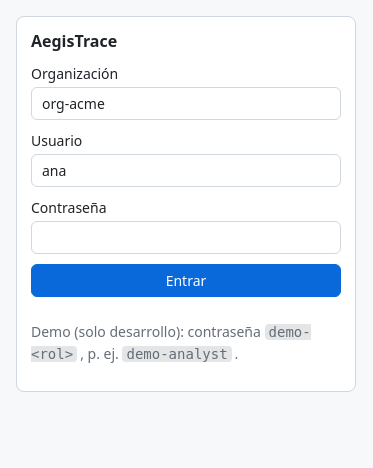
it: web app › shows server errors on failed login
Click the button "Entrar" at (186, 281), box [31, 264, 341, 297]
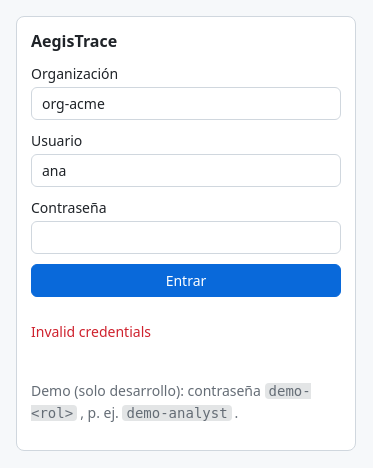
Now the message reads "Invalid credentials", box [31, 322, 151, 341]
